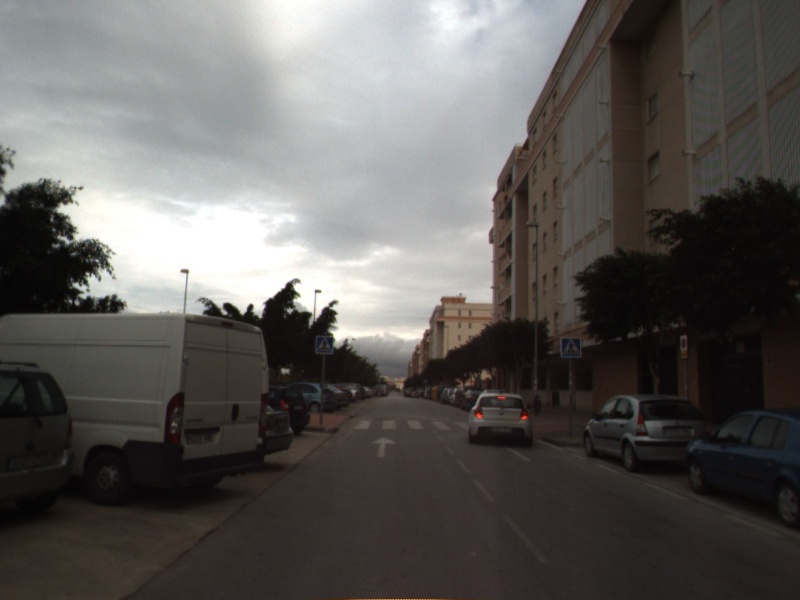STRAIGHT: (368, 434, 399, 460)
